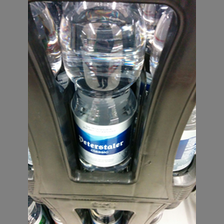water: (57, 2, 146, 173)
